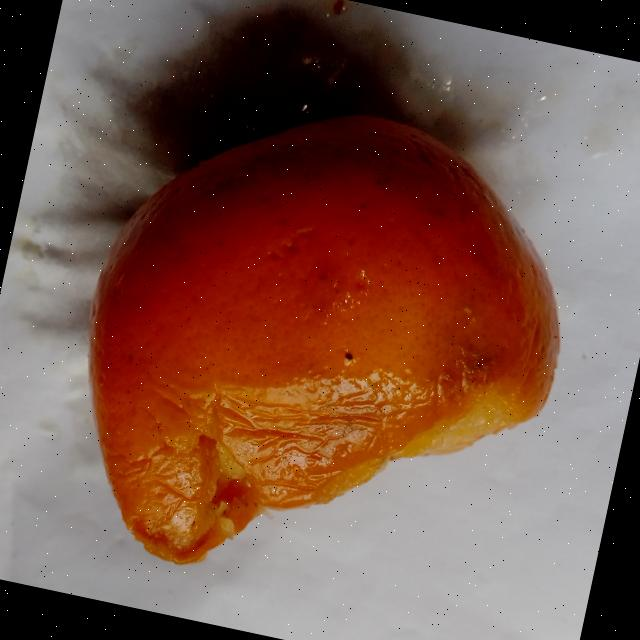Rotten: (44, 64, 600, 633)
